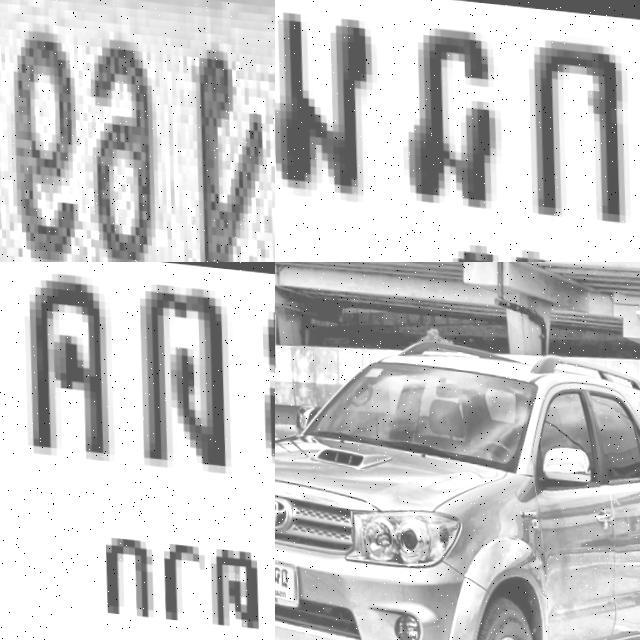license-plate: (0, 262, 275, 640), (275, 0, 640, 262), (0, 0, 275, 262), (275, 544, 301, 608)
